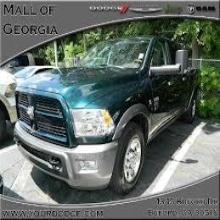no damage: (13, 35, 202, 195), (1, 65, 18, 138)
